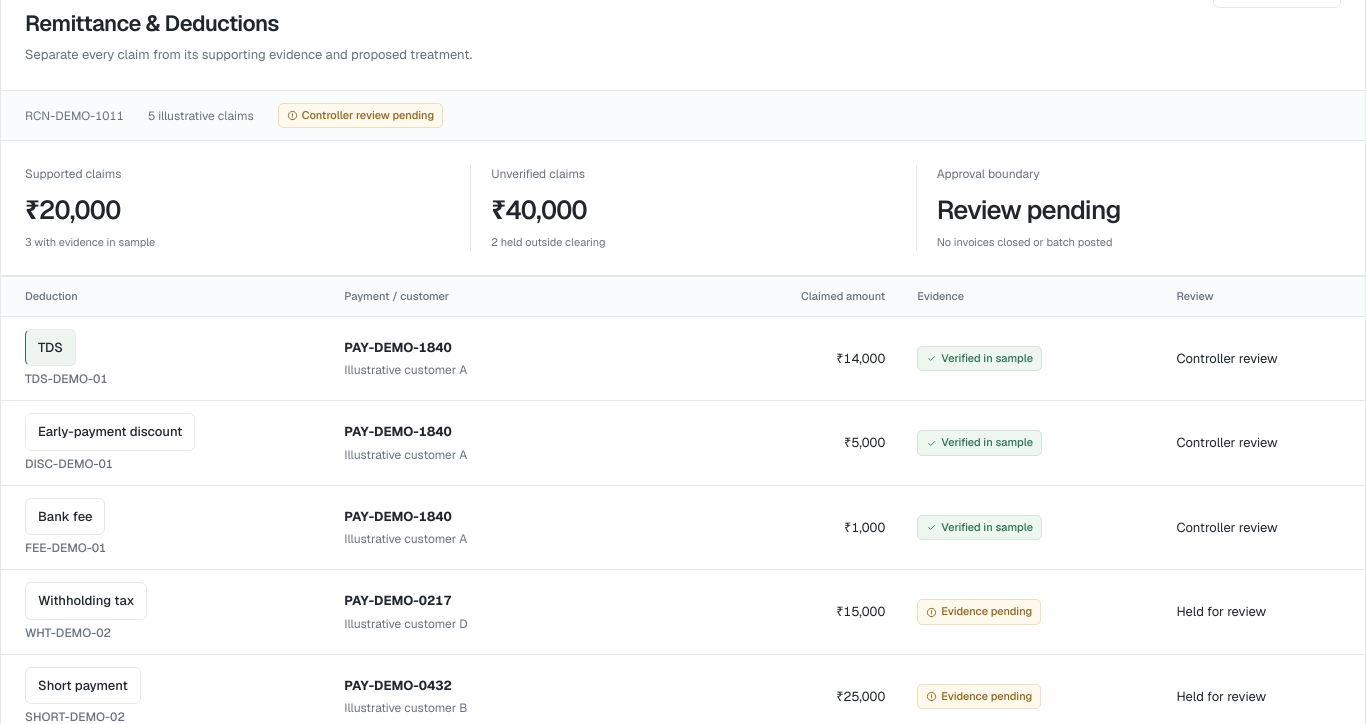
it: deduction treatment screen › inspects a pending claim without showing an approved or closed outcome
Click the button with aria-label "Inspect Short payment claim": (83, 686) [25,667,141,704]
(page scrolled)
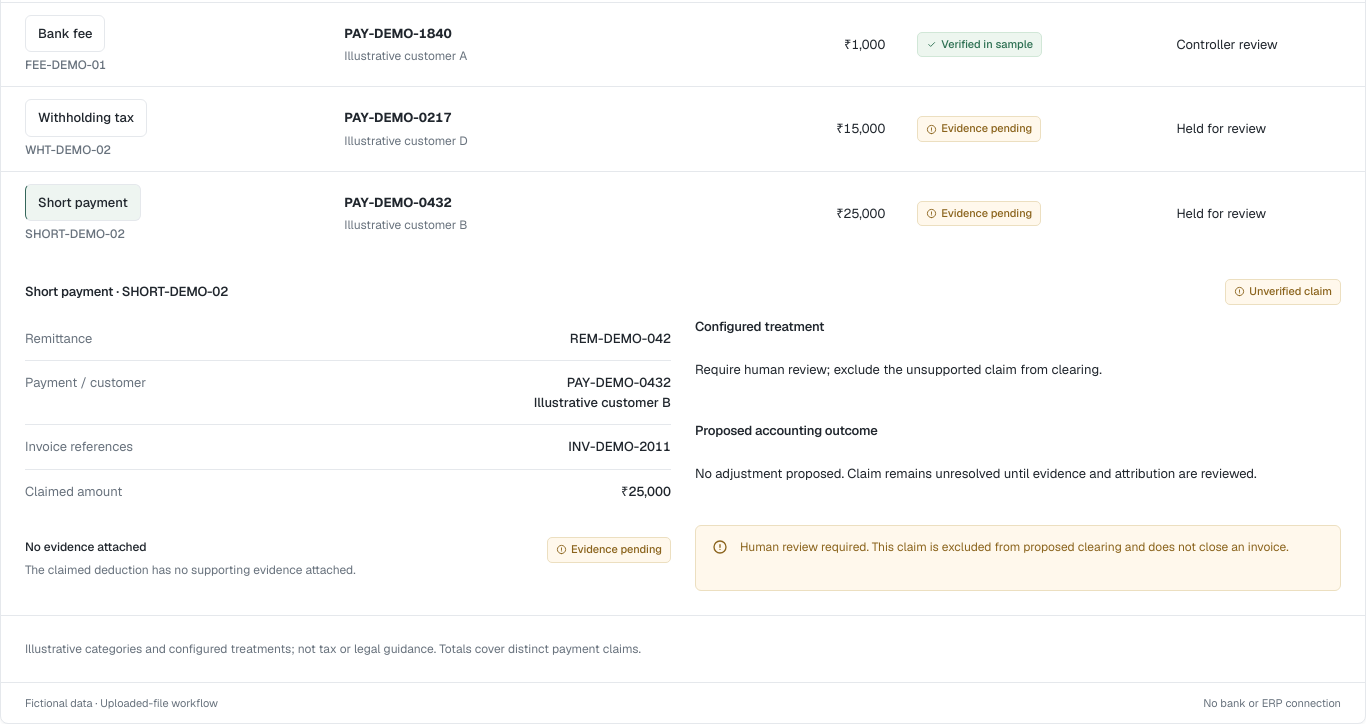
Now the element named "Selected deduction" shows "PAY-DEMO-0432", box [567,374,671,391]
Now the element named "Selected deduction" shows "Unverified claim", box [1249,284,1332,298]
Now the element named "Selected deduction" shows "No evidence attached", box [25,539,147,555]
